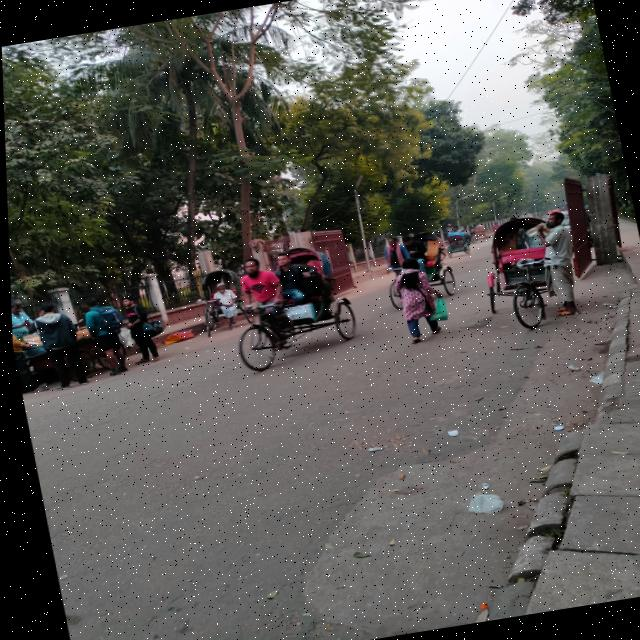rikshaw: (225, 230, 383, 382), (484, 206, 600, 324), (373, 219, 472, 309)
